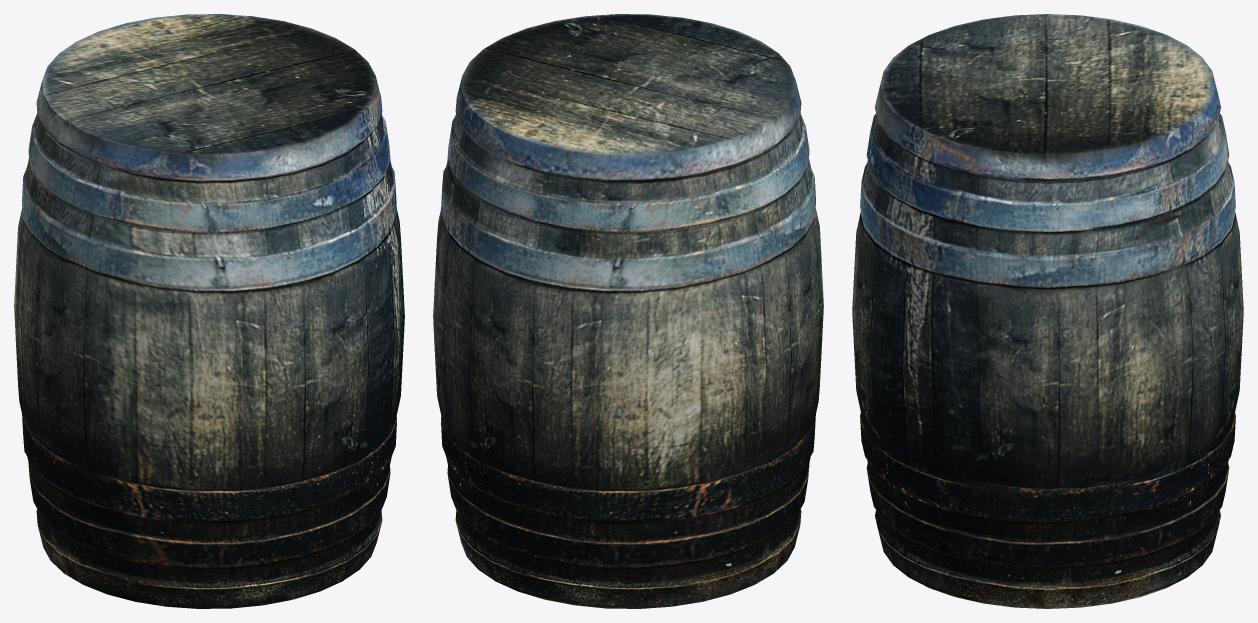
Rendered from barrel.obj.
The picture shows the model from 3 angles, left to right: view 1: azimuth 30°, elevation 25°; view 2: azimuth 150°, elevation 25°; view 3: azimuth 270°, elevation 25°; orthographic projection.
Parts seen in each view (by area): view 1: Mesh_Mesh_Cylinder.001; view 2: Mesh_Mesh_Cylinder.001; view 3: Mesh_Mesh_Cylinder.001.
Boxes of the visible parts, x1,y1,x2,y2 form: Mesh_Mesh_Cylinder.001: [14, 14, 404, 608]; Mesh_Mesh_Cylinder.001: [433, 14, 823, 608]; Mesh_Mesh_Cylinder.001: [852, 14, 1243, 608].
Size of the model in its own units: 9.44 by 12.06 by 9.44.
1 material, 1 textured.
